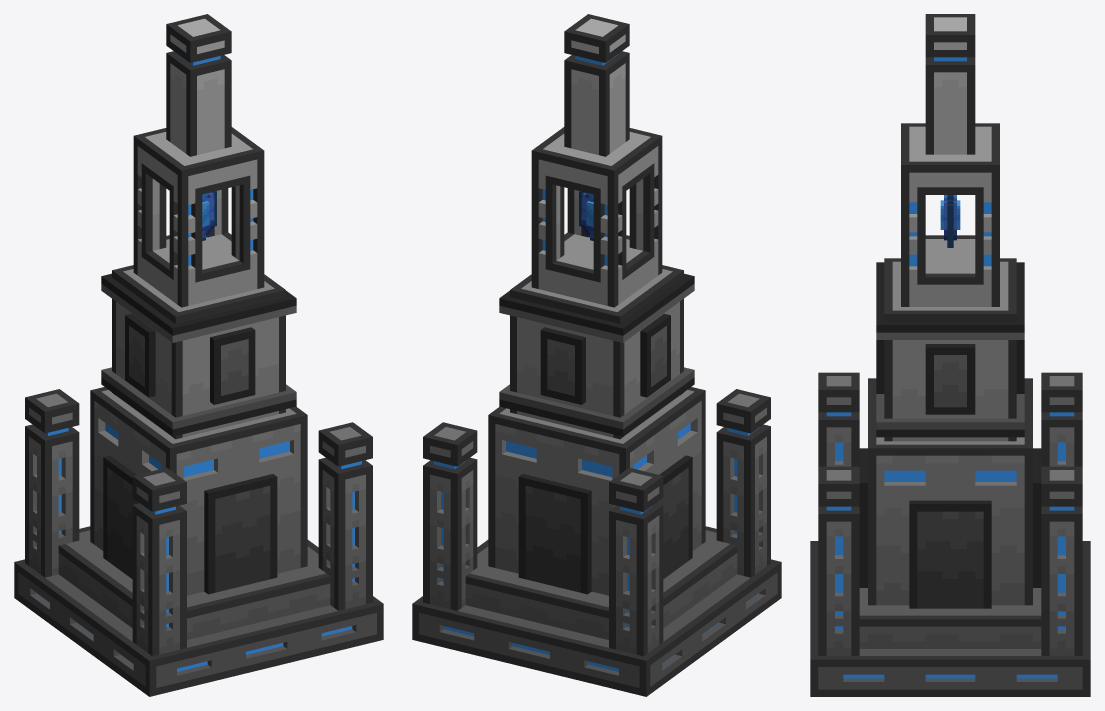
Rendered from Gem Altars.fbx.
The picture shows the model from 3 angles, left to right: view 1: azimuth 30°, elevation 25°; view 2: azimuth 150°, elevation 25°; view 3: azimuth 270°, elevation 25°; orthographic projection. The views are drawn at different scales.
Parts seen in each view (by area): view 1: Blue Gem Altar, Blue Gem; view 2: Blue Gem Altar, Blue Gem; view 3: Blue Gem Altar, Blue Gem.
Part boxes in pixels (x1,y1,x2,y2): Blue Gem Altar: (14, 14, 383, 696); Blue Gem: (202, 191, 216, 240); Blue Gem Altar: (412, 14, 781, 696); Blue Gem: (579, 191, 593, 240); Blue Gem Altar: (810, 14, 1090, 696); Blue Gem: (940, 195, 960, 247).
Size of the model in its own units: 0.68 by 0.68 by 1.64.
Materials: 8 (8 with a texture image).
